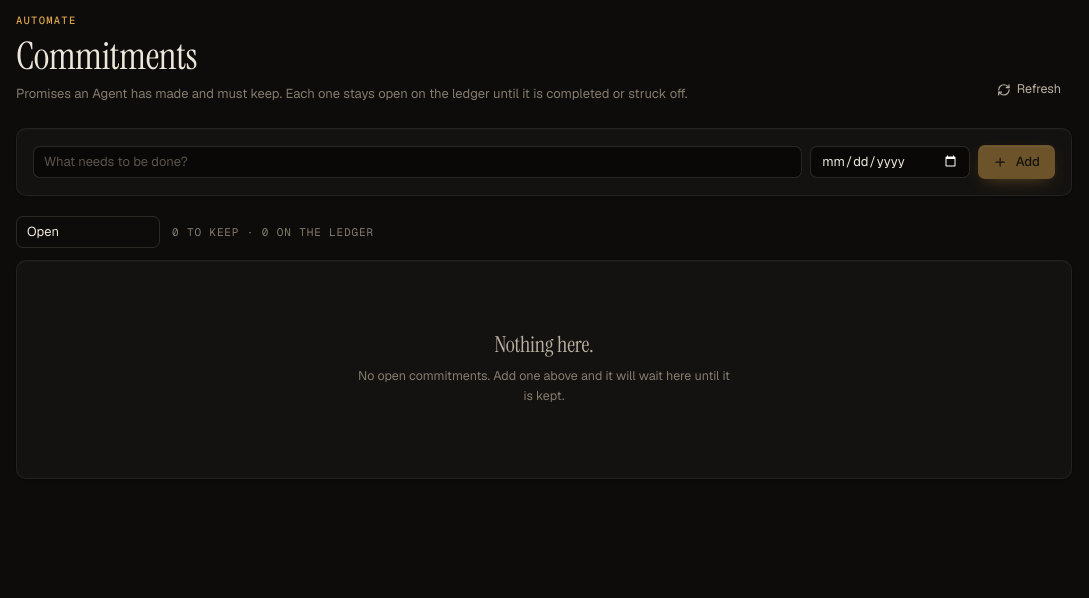
Scenario: CommitmentsPage creation guard › does not report a create the confirming read could not confirm, and the list retry reloads only the list
Expected: the text "Nothing here." is shown, [494,333,594,356]
In the field with placeholder "What needs to be done?": (418, 162) [33,146,802,178], type "next commitment"
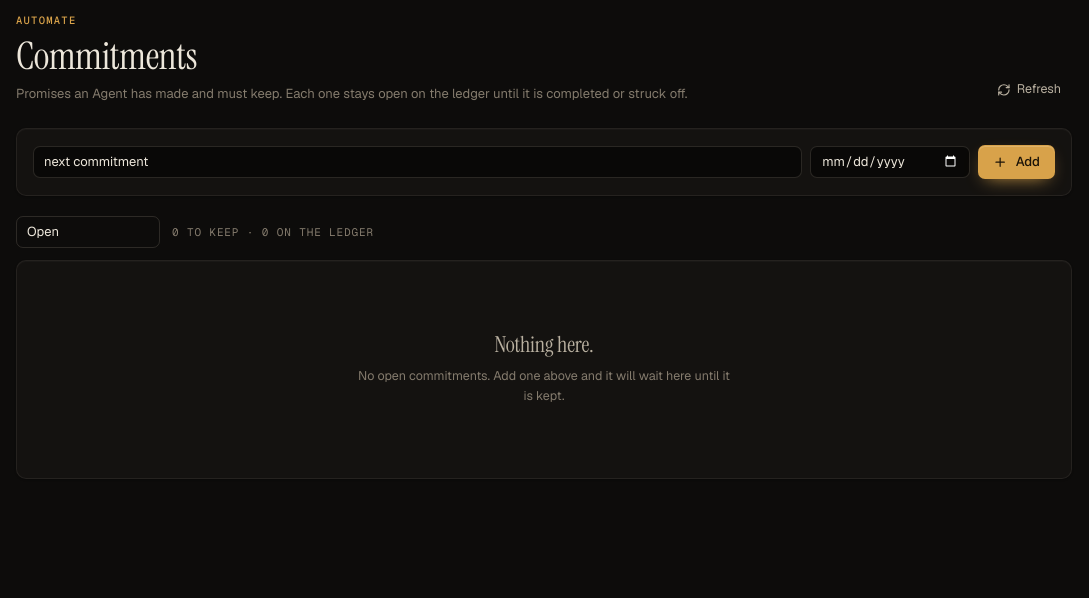
In the date field named "Due date": (890, 162) [810,146,970,178], type "2026-10-01"
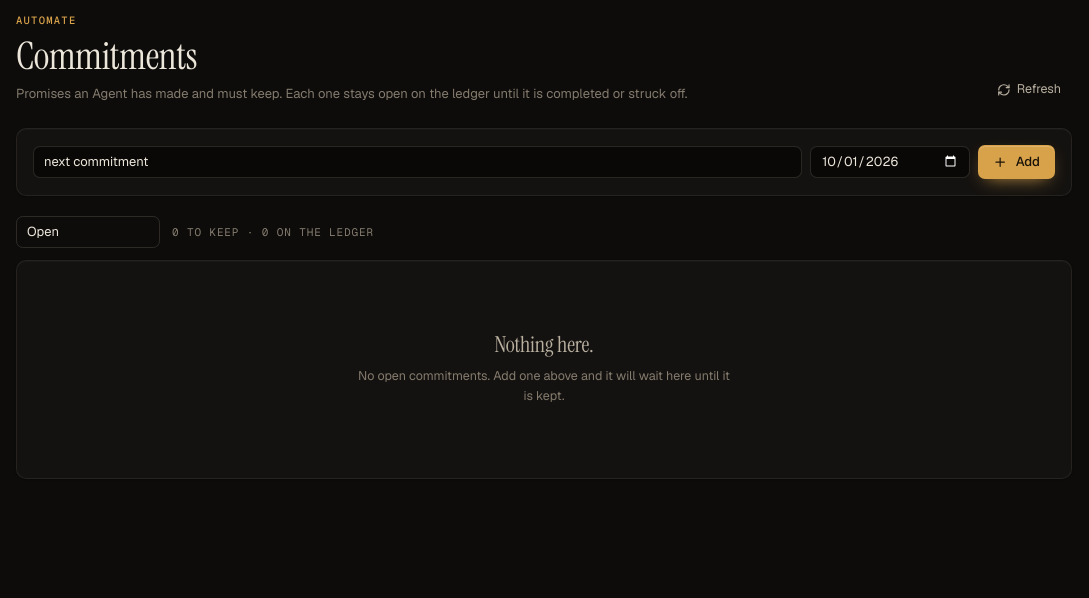
Click the button "Add": (1017, 162) [978,145,1055,179]
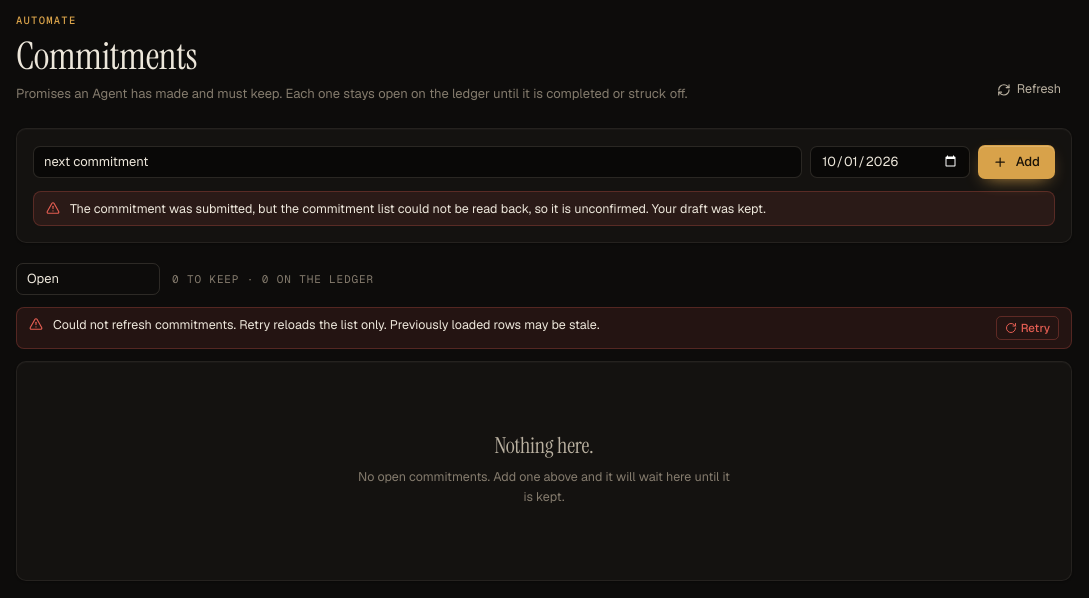
Now the number of buttons "Retry" is 1
Click the button "Retry": (1027, 328) [996,316,1059,340]
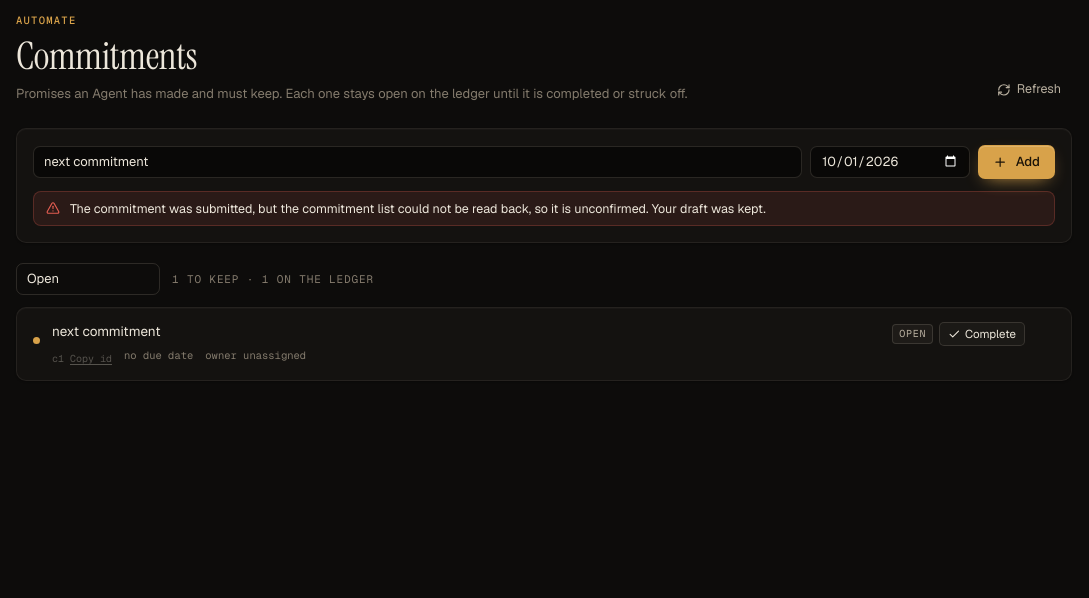
Now the text with test id "record-id" reads "c1", box [52,352,64,364]
